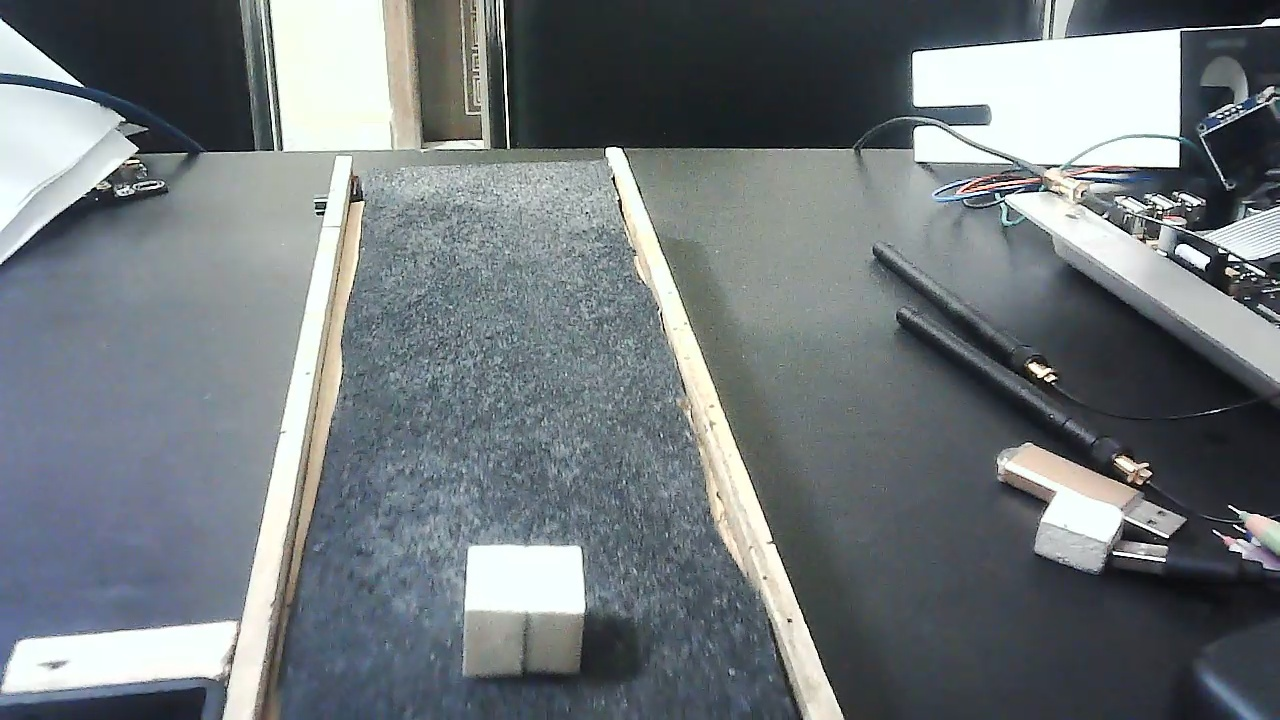Small: (456, 543, 591, 678)
